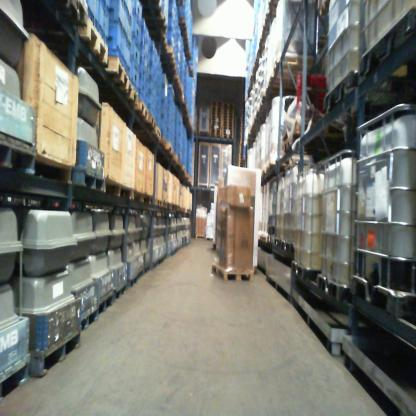pallet: (36, 21, 108, 64), (32, 329, 84, 380), (0, 353, 33, 404), (1, 132, 37, 178), (82, 57, 129, 89), (38, 0, 89, 26), (73, 165, 105, 191), (105, 80, 139, 104), (212, 263, 253, 282), (113, 100, 149, 121), (78, 306, 98, 336), (143, 13, 168, 33), (96, 294, 113, 320), (130, 113, 156, 129), (133, 126, 161, 140), (159, 45, 176, 62), (152, 33, 168, 51), (112, 283, 126, 303), (104, 179, 122, 193), (137, 190, 149, 204), (164, 141, 174, 157), (121, 188, 135, 199), (319, 0, 329, 14), (147, 192, 156, 207), (153, 197, 163, 210), (181, 17, 187, 33), (157, 136, 166, 146), (177, 82, 183, 95), (172, 153, 179, 163), (174, 75, 180, 86), (176, 160, 183, 169), (222, 135, 234, 139), (222, 132, 234, 136), (222, 127, 234, 131), (222, 124, 234, 128), (222, 121, 234, 125), (222, 118, 234, 122), (222, 115, 234, 119), (222, 109, 234, 113), (210, 129, 222, 133), (210, 127, 222, 131), (210, 124, 222, 128), (210, 121, 222, 125), (210, 118, 222, 122), (210, 112, 222, 116), (210, 132, 221, 136), (222, 130, 234, 133), (210, 116, 222, 119), (223, 113, 234, 116), (210, 136, 222, 138), (239, 156, 244, 160), (238, 165, 244, 168), (239, 162, 244, 165), (239, 159, 244, 162), (239, 153, 244, 156), (239, 151, 243, 154)
small_load_carrier: (108, 22, 124, 69), (108, 0, 124, 34), (124, 33, 132, 83), (87, 0, 99, 33), (99, 3, 108, 46), (124, 10, 132, 56), (132, 18, 141, 48), (132, 61, 140, 93), (124, 0, 132, 29), (133, 37, 140, 69), (132, 0, 142, 21), (148, 92, 155, 117), (148, 75, 155, 98), (100, 0, 109, 17), (148, 62, 155, 83), (141, 18, 147, 37), (140, 78, 145, 100), (140, 60, 145, 82), (140, 45, 145, 67), (141, 34, 146, 55), (149, 51, 155, 68), (149, 41, 155, 57), (146, 43, 150, 62), (146, 26, 150, 45), (145, 72, 148, 93), (145, 57, 148, 78), (145, 88, 148, 109)
